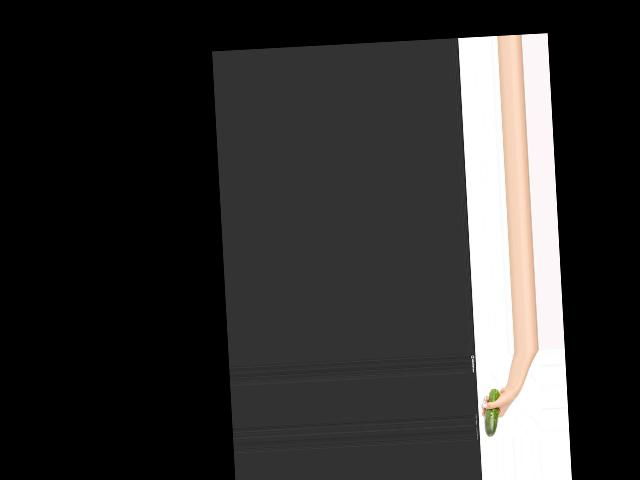cucumber: (482, 389, 501, 437)
